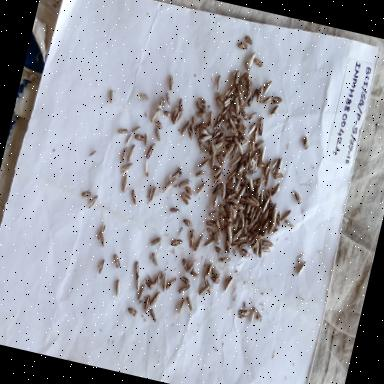pbw: (145, 139, 158, 162), (178, 118, 192, 138), (147, 250, 161, 270), (246, 87, 258, 110), (256, 115, 268, 138), (170, 234, 185, 252), (146, 306, 160, 325), (159, 271, 171, 293), (195, 178, 208, 198), (177, 191, 193, 207), (228, 144, 242, 162), (226, 203, 240, 221), (202, 278, 216, 296), (226, 164, 240, 182), (247, 156, 261, 174), (148, 290, 162, 308), (222, 142, 236, 160), (250, 306, 264, 324), (194, 232, 205, 254), (187, 228, 198, 250), (211, 110, 222, 132), (119, 172, 130, 194), (126, 142, 137, 164), (112, 278, 124, 298), (186, 256, 198, 276), (192, 122, 204, 142), (160, 181, 174, 198), (142, 275, 156, 292), (225, 224, 236, 245), (270, 207, 280, 230), (128, 188, 140, 207), (162, 90, 174, 109), (232, 227, 244, 246), (238, 306, 252, 322), (178, 282, 192, 298), (149, 234, 163, 250), (110, 253, 123, 270), (244, 85, 255, 105), (96, 222, 107, 242), (241, 176, 252, 196), (142, 296, 152, 318), (261, 195, 271, 217), (232, 212, 242, 234), (263, 158, 273, 180), (258, 142, 268, 164), (244, 160, 256, 178), (171, 110, 183, 128), (236, 185, 248, 203), (220, 110, 232, 128), (96, 230, 108, 248), (184, 296, 196, 314), (87, 194, 99, 212), (178, 256, 190, 274), (185, 124, 197, 142), (150, 108, 162, 126), (178, 175, 192, 190), (232, 94, 243, 113), (166, 73, 177, 92), (213, 220, 226, 236), (236, 116, 249, 132), (280, 208, 292, 225), (240, 168, 252, 185), (262, 79, 274, 96), (292, 189, 304, 206), (300, 134, 312, 151), (218, 182, 228, 202), (134, 274, 144, 294), (132, 260, 142, 280), (206, 110, 216, 130), (137, 284, 147, 304), (254, 176, 264, 196), (176, 296, 186, 316), (260, 208, 270, 228), (96, 256, 106, 276), (204, 140, 215, 158), (152, 270, 163, 288), (282, 218, 296, 232), (80, 187, 94, 201), (208, 274, 222, 288), (196, 143, 210, 157), (120, 160, 134, 174), (271, 94, 286, 107), (237, 247, 252, 260), (198, 282, 210, 298), (152, 128, 164, 144), (246, 122, 258, 138), (229, 124, 241, 140), (210, 182, 222, 198), (246, 178, 258, 194), (261, 94, 273, 110), (210, 166, 222, 182), (208, 152, 218, 171), (243, 79, 254, 96), (213, 228, 224, 245), (244, 150, 252, 173), (182, 184, 195, 198), (236, 239, 250, 252), (212, 245, 226, 258), (235, 40, 249, 53), (198, 156, 211, 170), (201, 237, 215, 250), (256, 240, 266, 258), (263, 168, 273, 186), (213, 74, 223, 92), (237, 158, 247, 176), (223, 275, 233, 293), (252, 126, 262, 144), (176, 96, 186, 114), (210, 265, 222, 280), (218, 203, 230, 218), (232, 70, 242, 88), (170, 105, 180, 123), (269, 156, 279, 174), (140, 130, 150, 148), (149, 184, 159, 202), (106, 88, 116, 106), (222, 239, 234, 254), (189, 114, 199, 132), (121, 145, 130, 165), (164, 277, 176, 292), (177, 274, 192, 286), (255, 137, 266, 153), (226, 84, 237, 100), (217, 214, 228, 230), (273, 210, 284, 226), (270, 182, 281, 198), (243, 72, 252, 91), (268, 202, 278, 219), (217, 148, 227, 165), (248, 51, 258, 68), (133, 131, 146, 144), (137, 90, 150, 103), (249, 195, 262, 208), (253, 88, 265, 102), (214, 97, 226, 111), (238, 108, 250, 122), (209, 128, 221, 142), (204, 218, 218, 230), (212, 140, 226, 152), (213, 152, 225, 166), (180, 216, 194, 228), (211, 192, 220, 210), (252, 240, 262, 256), (254, 207, 264, 223), (236, 90, 246, 106), (296, 262, 306, 278), (216, 116, 226, 132), (196, 93, 208, 106), (126, 306, 138, 319), (168, 205, 180, 218), (205, 227, 217, 240), (223, 206, 235, 219), (238, 130, 251, 142), (269, 105, 280, 119), (249, 232, 260, 246), (224, 92, 235, 106), (229, 156, 240, 170), (146, 184, 154, 203), (242, 218, 250, 237), (247, 219, 257, 234), (236, 142, 246, 157), (249, 221, 259, 236), (261, 239, 276, 249), (248, 138, 258, 153), (259, 220, 268, 236), (200, 132, 212, 144), (222, 132, 234, 144), (230, 238, 242, 250), (196, 168, 208, 180), (214, 91, 226, 103), (118, 125, 130, 137), (243, 34, 255, 46), (238, 72, 250, 84), (194, 101, 206, 113), (161, 108, 173, 120), (255, 161, 268, 172), (200, 266, 210, 280), (215, 130, 225, 144), (222, 102, 232, 116), (88, 148, 98, 162), (132, 122, 142, 136), (228, 69, 236, 86), (258, 190, 266, 207), (247, 205, 255, 222), (250, 208, 258, 225), (220, 254, 232, 265), (194, 110, 206, 121), (230, 116, 241, 128), (227, 188, 238, 200), (253, 57, 265, 68), (224, 180, 236, 191), (233, 168, 244, 180), (270, 224, 280, 237), (208, 142, 218, 155), (254, 178, 267, 188), (231, 201, 244, 211), (207, 209, 220, 219), (266, 222, 274, 238), (238, 212, 246, 228), (125, 132, 134, 146), (261, 189, 270, 203), (232, 134, 241, 148), (251, 237, 260, 251), (224, 222, 236, 232), (154, 120, 164, 132), (272, 172, 284, 182), (242, 60, 252, 72), (227, 109, 239, 119), (240, 192, 250, 204), (229, 102, 239, 114), (232, 178, 240, 193), (240, 139, 250, 151), (277, 158, 284, 175), (259, 245, 272, 254), (248, 110, 257, 123), (190, 269, 200, 280), (258, 231, 268, 242), (222, 196, 233, 206), (229, 196, 240, 206), (206, 262, 213, 277), (238, 233, 248, 243), (245, 201, 252, 214), (239, 103, 249, 112), (198, 122, 208, 130), (212, 166, 219, 174)
